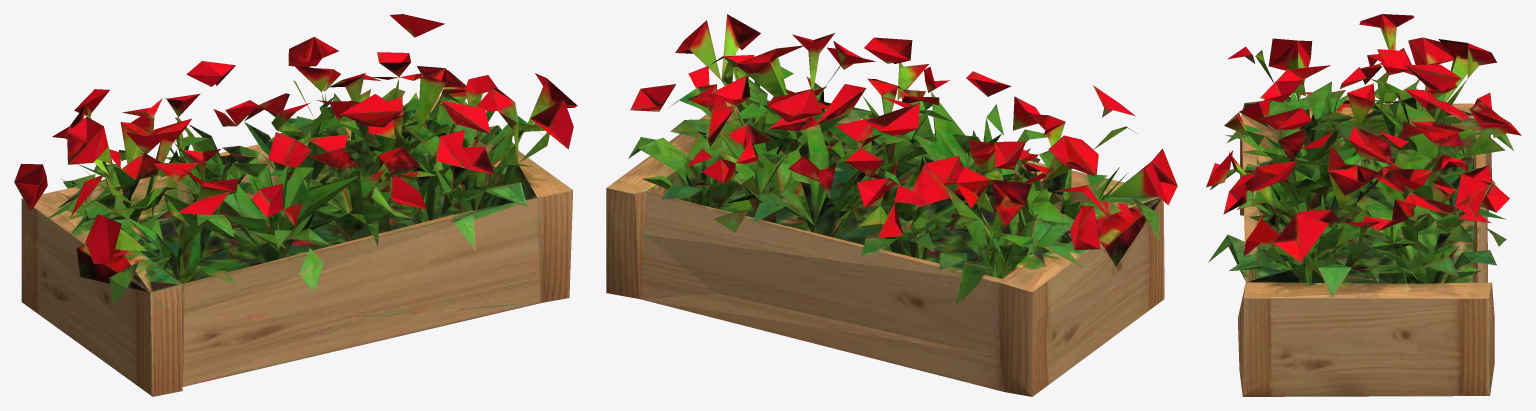
The model's file is geranium_box.glb.
The picture shows the model from 3 angles, left to right: view 1: azimuth 30°, elevation 25°; view 2: azimuth 150°, elevation 25°; view 3: azimuth 270°, elevation 25°; orthographic projection. The views are drawn at different scales.
Bounding box in the file's own units: 1.89 × 0.8333 × 1.13.
1 material, 1 textured.
